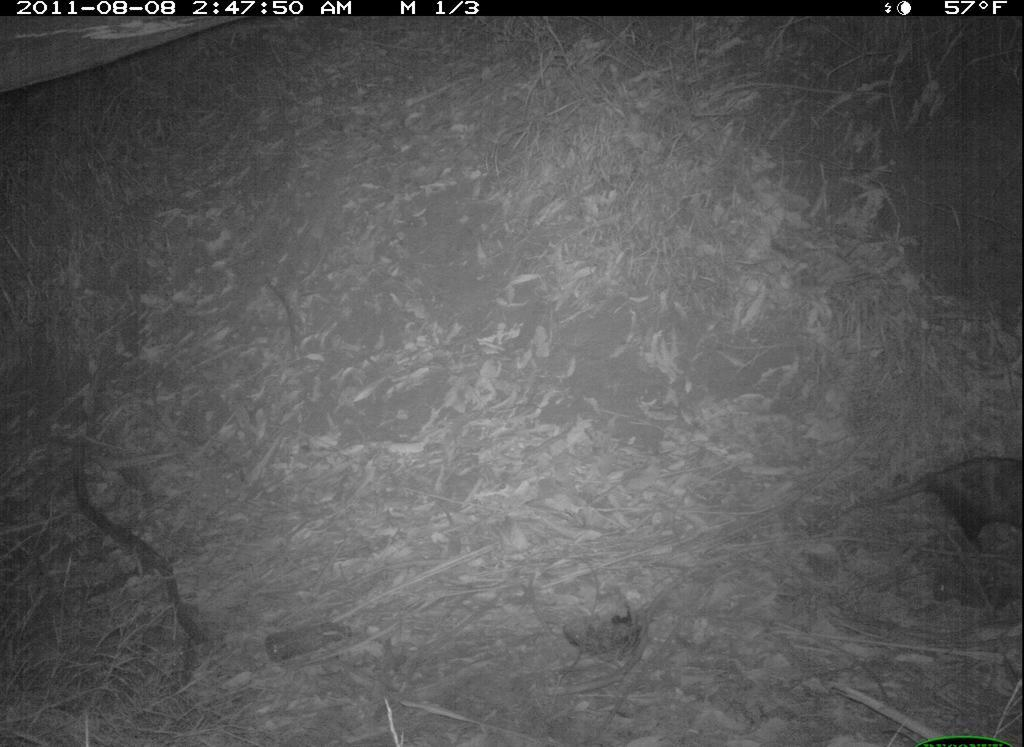opossum: (845, 446, 1023, 556)
